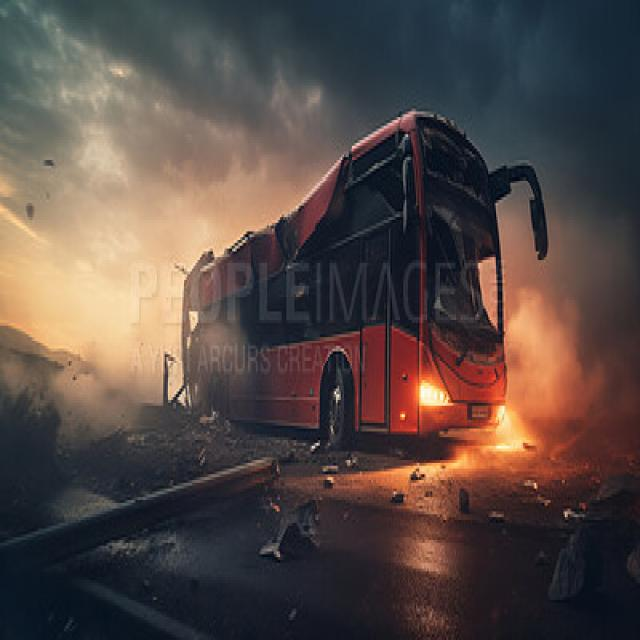Accident: (161, 105, 550, 457)
